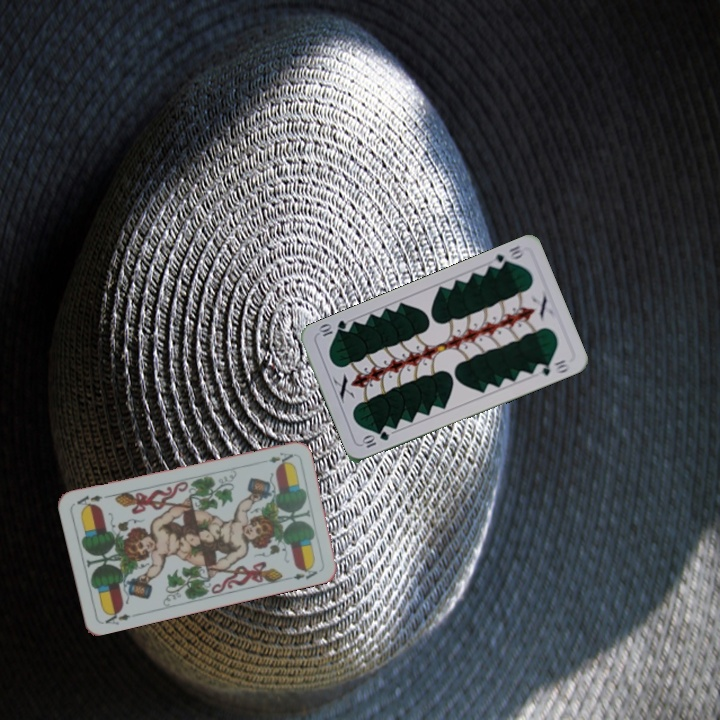EA: (101, 605, 139, 627), (264, 448, 296, 465)
G10: (489, 242, 527, 272), (358, 427, 392, 451)
